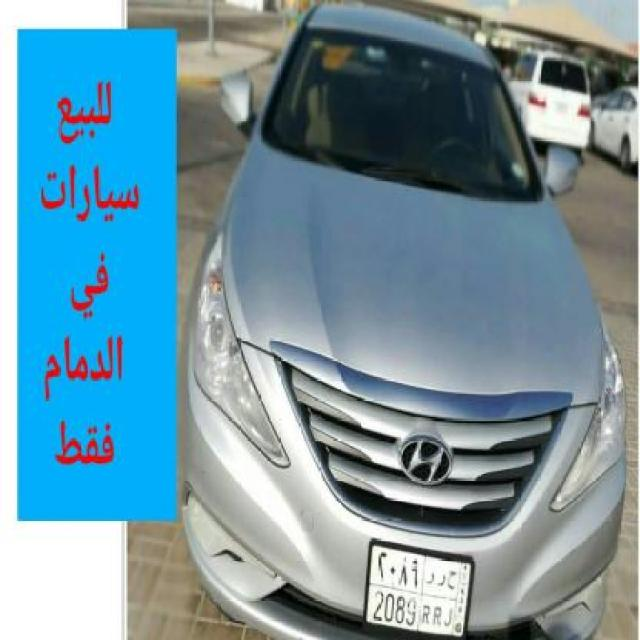license_plate: (366, 558, 474, 639)
